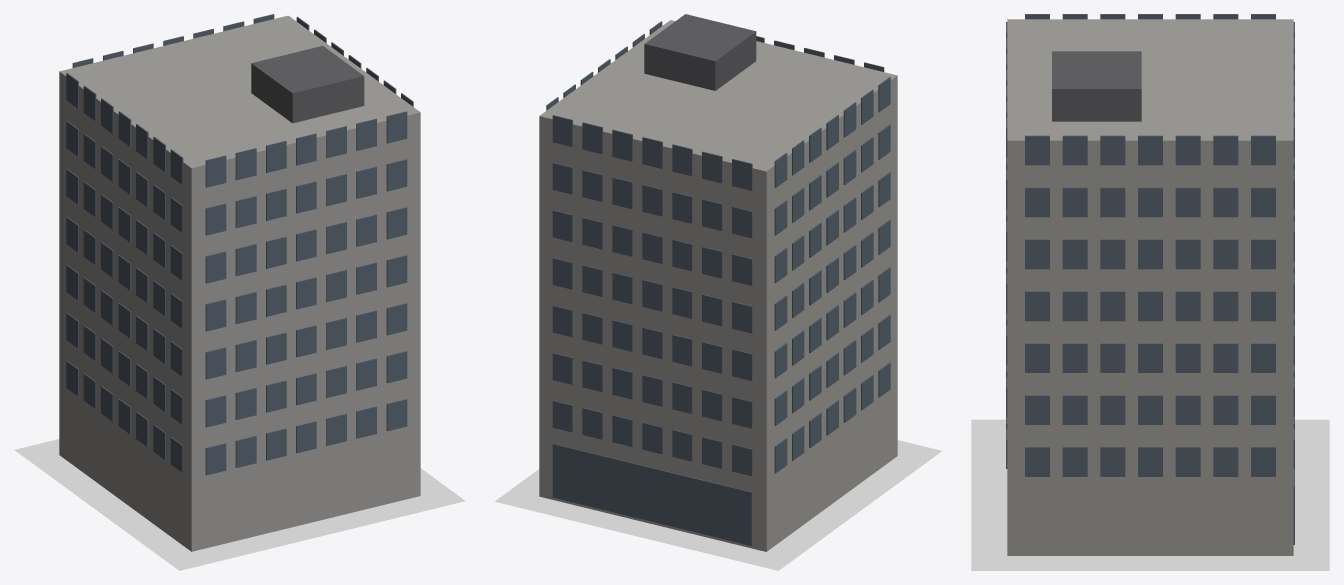
File: office-midrise.glb
The picture shows the model from 3 angles, left to right: view 1: azimuth 30°, elevation 25°; view 2: azimuth 150°, elevation 25°; view 3: azimuth 270°, elevation 25°; orthographic projection. The views are drawn at different scales.
Visible parts, largest first — view 1: Cube, Plane, Cube.198, Cube.043, Cube.122, Cube.150, Cube.015, Cube.071, Cube.093, Cube.121, Cube.178, Cube.183 (+40 smaller); view 2: Cube, Cube.001, Plane, Cube.198, Cube.003, Cube.030, Cube.091, Cube.006, Cube.060, Cube.064, Cube.088, Cube.118 (+41 smaller); view 3: Cube, Plane, Cube.198, Cube.101, Cube.102, Cube.104, Cube.105, Cube.129, Cube.130, Cube.132, Cube.133, Cube.157 (+40 smaller).
Part boxes in pixels (box(x1,y1,x2,y2)): Cube: box(59, 15, 420, 551); Plane: box(14, 439, 465, 570); Cube.198: box(251, 46, 364, 123); Cube.043: box(386, 351, 407, 383); Cube.122: box(235, 244, 256, 276); Cube.150: box(235, 196, 256, 228); Cube.015: box(386, 399, 407, 431); Cube.071: box(386, 303, 407, 335); Cube.093: box(205, 299, 226, 331); Cube.121: box(205, 251, 226, 283); Cube.178: box(235, 148, 256, 180); Cube.183: box(386, 111, 407, 143); Cube: box(539, 20, 897, 551); Cube.001: box(552, 443, 752, 545); Plane: box(495, 440, 941, 570); Cube.198: box(644, 14, 756, 90); Cube.003: box(702, 437, 722, 468); Cube.030: box(732, 396, 752, 428); Cube.091: box(582, 265, 602, 296); Cube.006: box(612, 415, 632, 446); Cube.060: box(672, 334, 692, 366); Cube.064: box(552, 305, 572, 337); Cube.088: box(672, 287, 692, 318); Cube.118: box(612, 225, 632, 256); Cube: box(1007, 19, 1293, 555); Plane: box(971, 419, 1329, 570); Cube.198: box(1052, 51, 1141, 121); Cube.101: box(1062, 291, 1087, 321); Cube.102: box(1100, 291, 1125, 321); Cube.104: box(1175, 291, 1200, 321); Cube.105: box(1213, 291, 1238, 321); Cube.129: box(1062, 239, 1087, 269); Cube.130: box(1100, 239, 1125, 269); Cube.132: box(1175, 239, 1200, 269); Cube.133: box(1213, 239, 1238, 269); Cube.157: box(1062, 187, 1087, 217).
Bounding box in the file's own units: 20 × 27.6 × 20.
